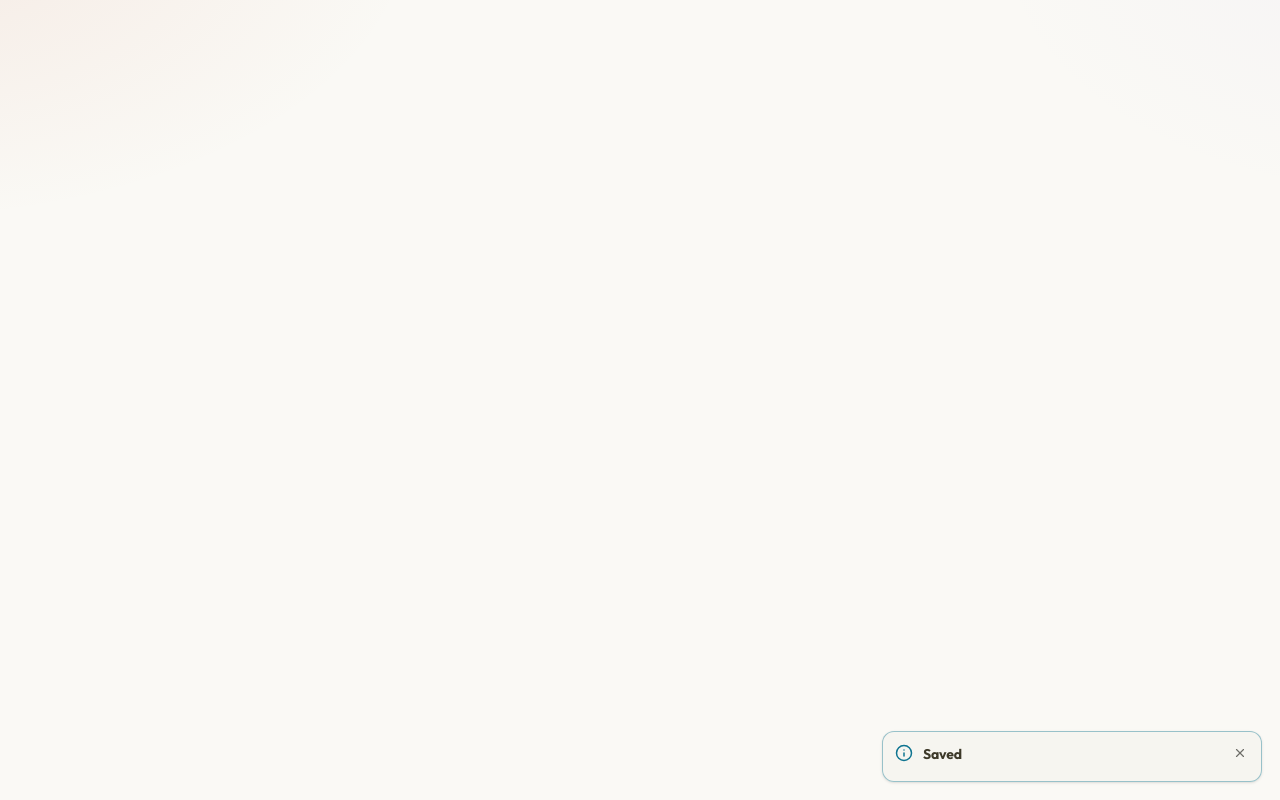
Scenario: Toaster › pauses auto-dismiss while the pointer is over the toast
Expected: the text "Saved" is shown, [923,745,962,763]
Step 1. Hover over the message "Saved" → {"x": 1072, "y": 756}, box [882,731,1262,782]
Expected: the text "Saved" is shown, [923,745,962,763]
Step 2. Move the pointer off the message "Saved", box [882,731,1262,782]
Wait 2500 ms
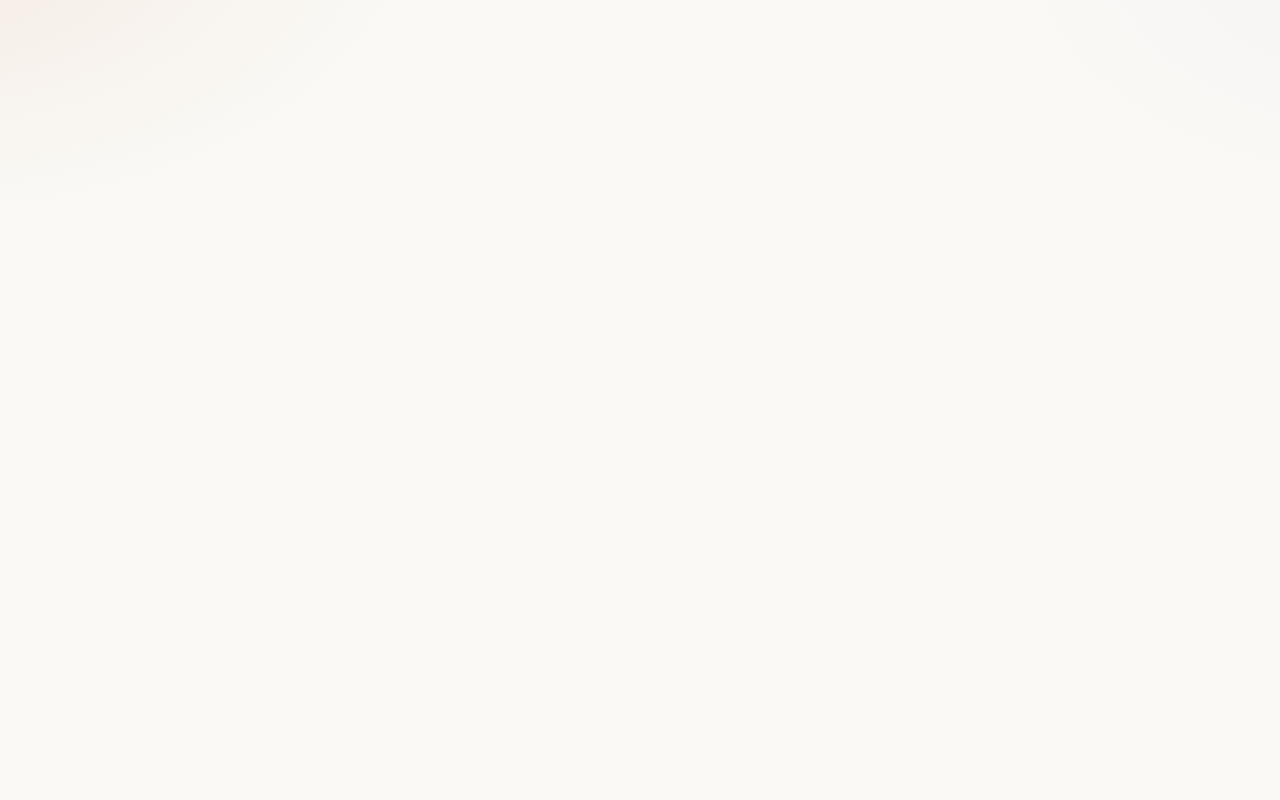
Result: the text "Saved" is gone
